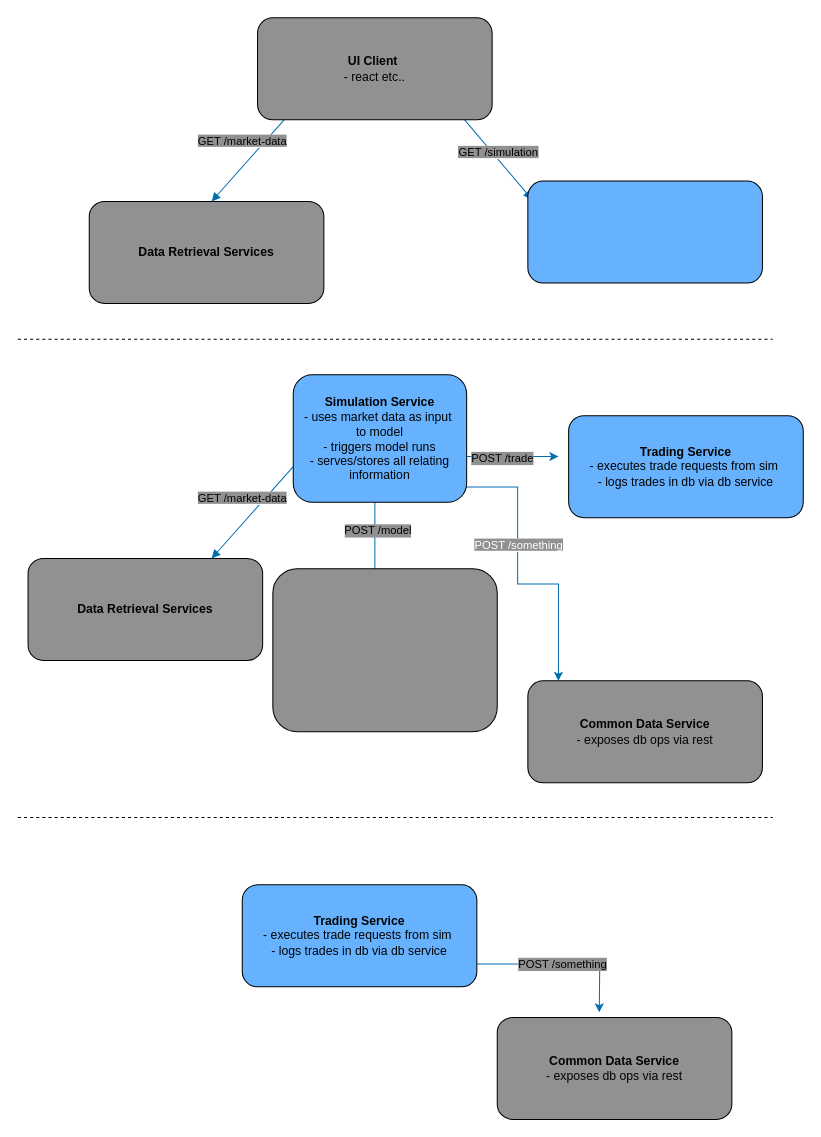
Image size: 821x1137. Some labels were removed from this diagram. The shapes that lost their labels are listed below. From the top down, each one's box as (x1, y1, x2, y2) in pixels, then its label:
(527, 180, 762, 283): Simulation Service - Can be invoked by UI - also invoked via console?
(272, 568, 497, 732): Model Wrapper Service
